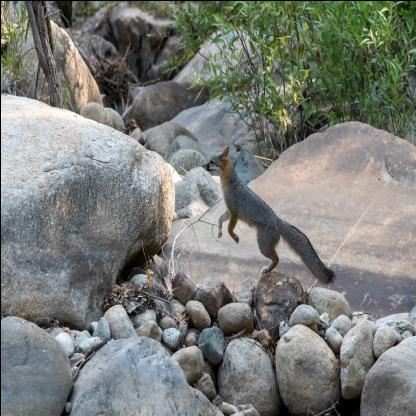zorro: (200, 136, 340, 296)
